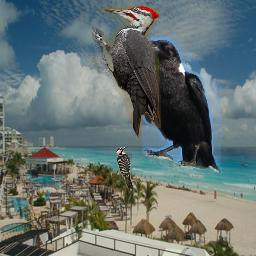Crow: (136, 37, 222, 174)
Woodpecker: (92, 6, 161, 141), (116, 146, 134, 193)
